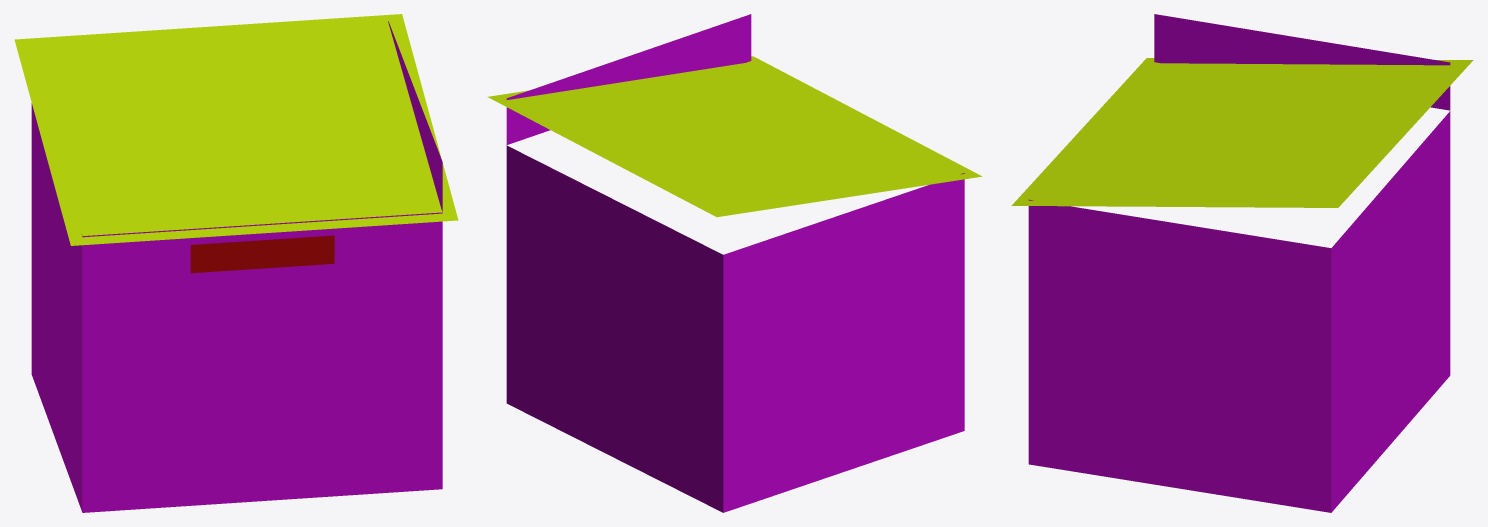
File: bgj_75.glb
3 renders of one model, left to right at view 1: azimuth 30°, elevation 25°; view 2: azimuth 150°, elevation 25°; view 3: azimuth 270°, elevation 25°, orthographic. The views are drawn at different scales.
Parts seen in each view (by area): view 1: bgj_75; view 2: bgj_75; view 3: bgj_75.
Boxes of the visible parts, box(x1,y1,x2,y2) form: bgj_75: box(14, 14, 458, 512); bgj_75: box(488, 14, 982, 512); bgj_75: box(1011, 14, 1473, 512).
Size of the model in its own units: 14.34 by 10.39 by 13.91.
